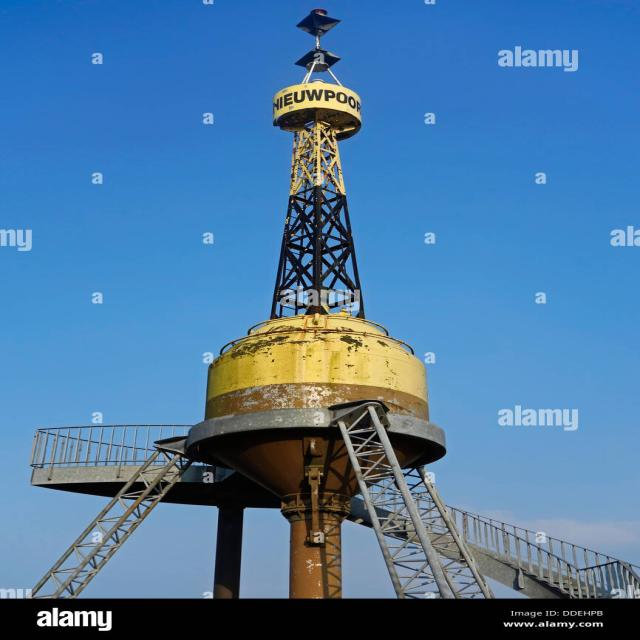marque: (189, 12, 443, 464)
